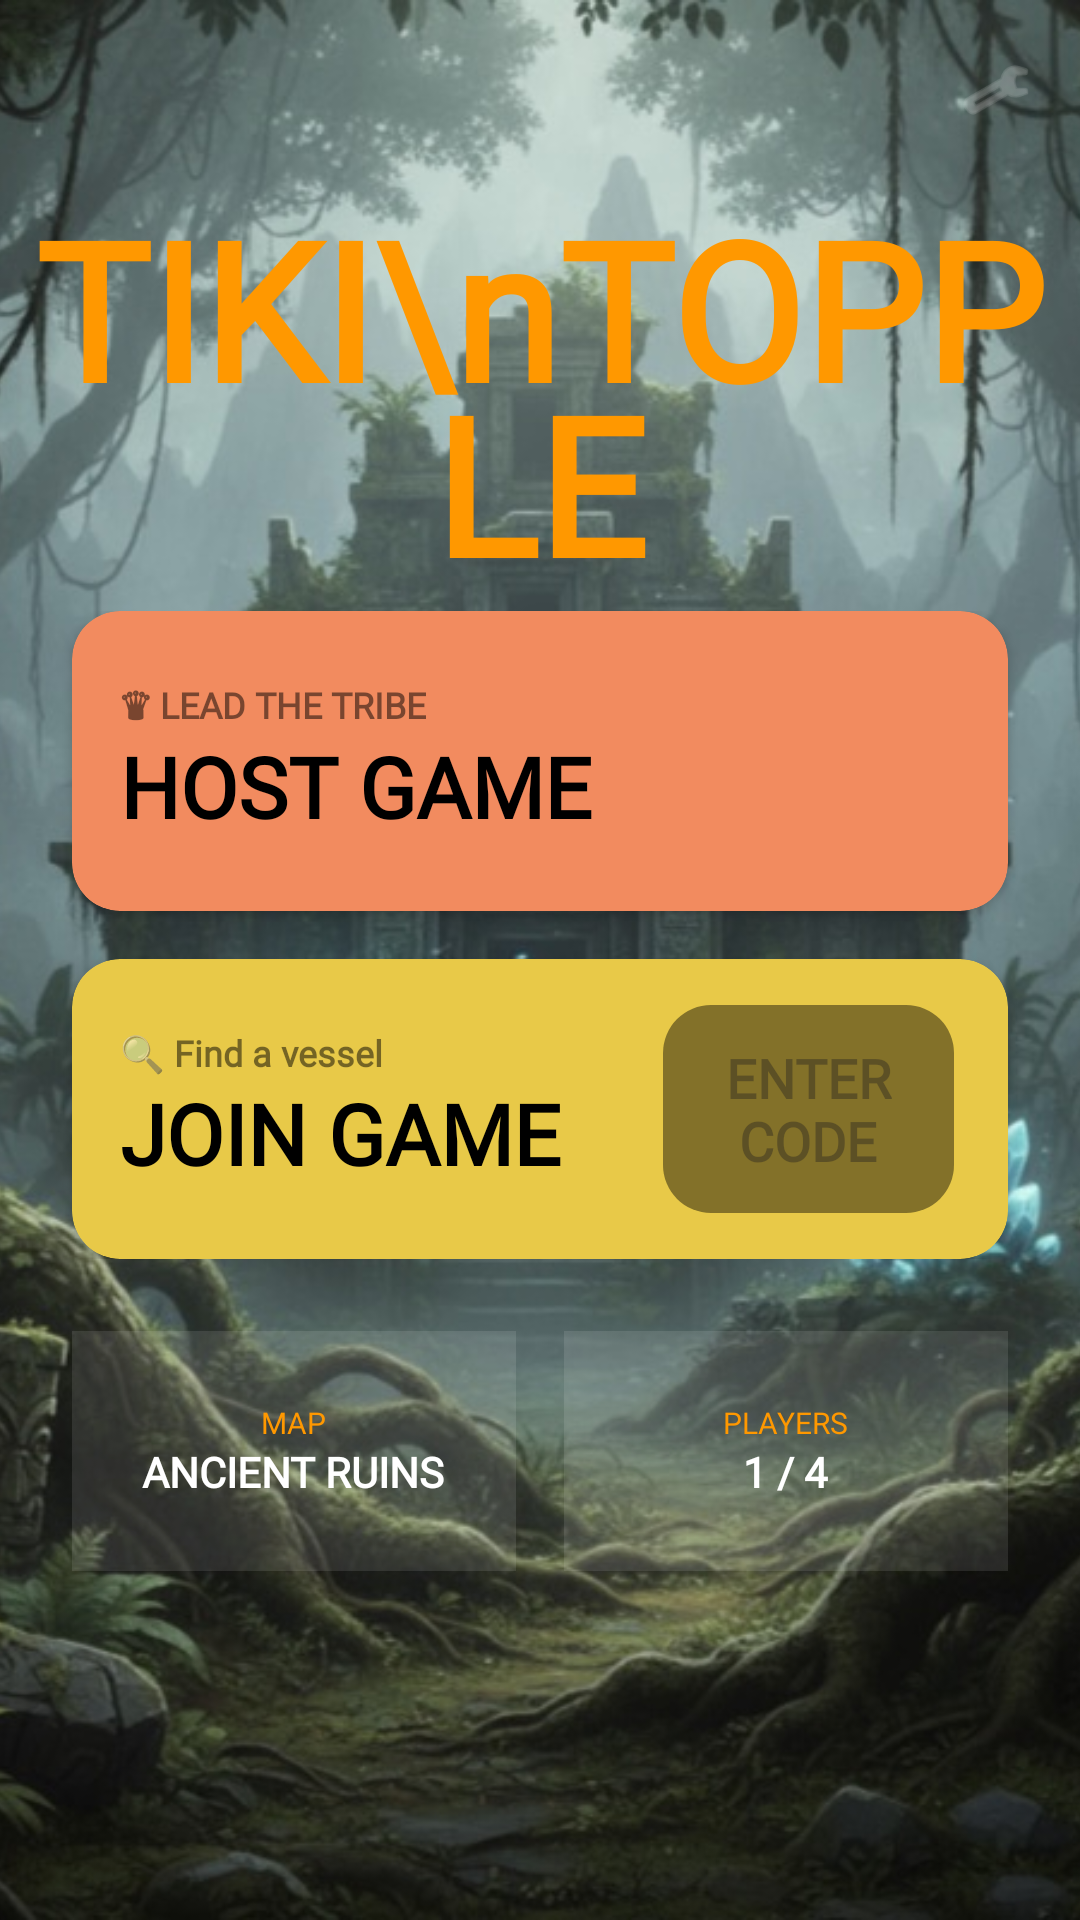

Icons on this 1080px×1920px Android screen, each with the point to tap as (x=x, y=y):
preferences: (x=996, y=90)
